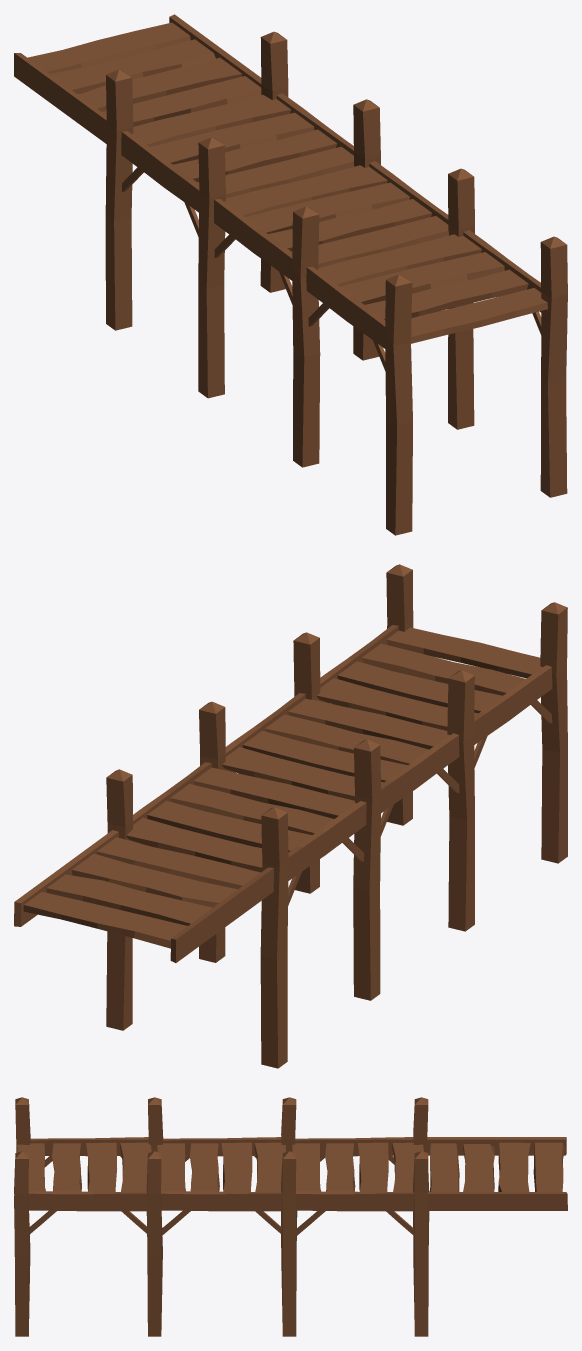
File: Steg.fbx
3 renders of one model, top to bottom at view 1: azimuth 30°, elevation 25°; view 2: azimuth 150°, elevation 25°; view 3: azimuth 270°, elevation 25°, orthographic. The views are drawn at different scales.
Visible parts, largest first — view 1: Querstreben_1; view 2: Querstreben_1; view 3: Querstreben_1.
Part boxes in pixels (x1=…): Querstreben_1: x1=14, y1=14, x2=567, y2=535; Querstreben_1: x1=14, y1=564, x2=567, y2=1068; Querstreben_1: x1=14, y1=1097, x2=567, y2=1336.
Size of the model in its own units: 173 by 243 by 669.
